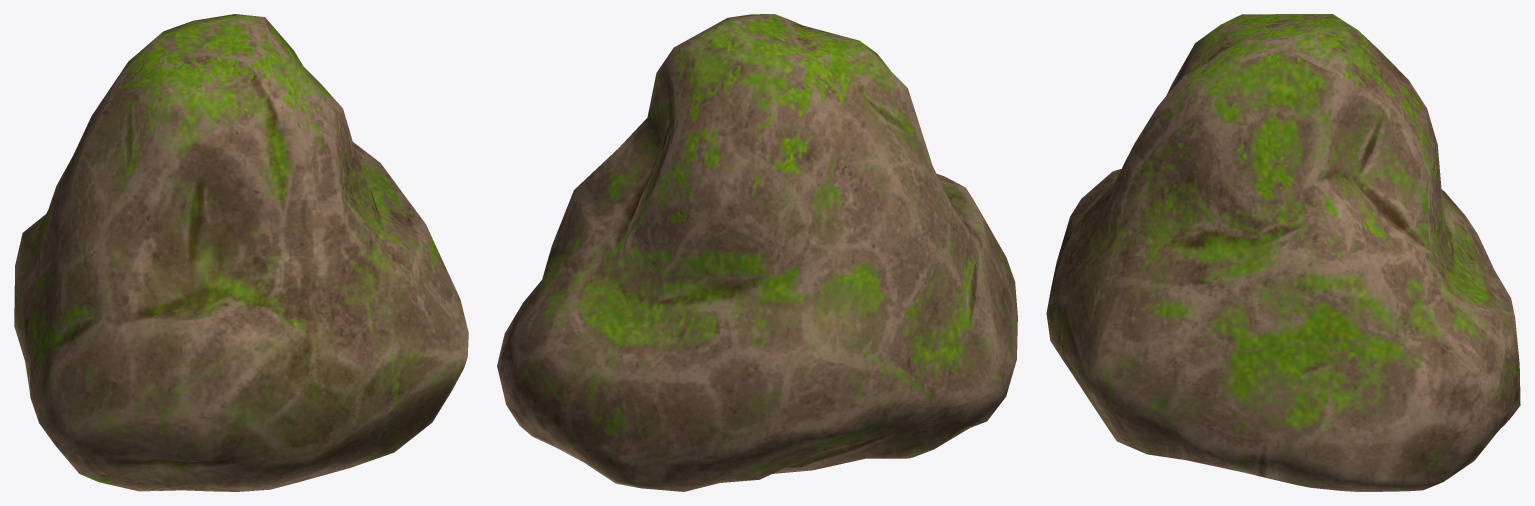
The model's file is sb_obj_nature007_Rock03b.fbx.
3 renders of one model, left to right at view 1: azimuth 30°, elevation 25°; view 2: azimuth 150°, elevation 25°; view 3: azimuth 270°, elevation 25°, orthographic. The views are drawn at different scales.
Visible parts, largest first — view 1: sb_obj_nature007_Rock03b; view 2: sb_obj_nature007_Rock03b; view 3: sb_obj_nature007_Rock03b.
Part boxes in pixels (box(x1,y1,x2,y2)): sb_obj_nature007_Rock03b: box(14, 14, 468, 491); sb_obj_nature007_Rock03b: box(497, 14, 1017, 491); sb_obj_nature007_Rock03b: box(1046, 14, 1520, 491).
Bounding box in the file's own units: 1.62 × 1.56 × 1.65.
